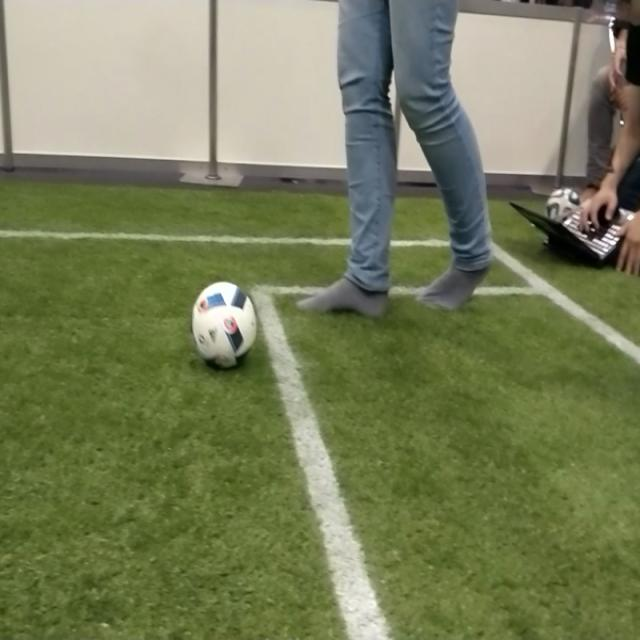ball: (192, 282, 258, 369)
